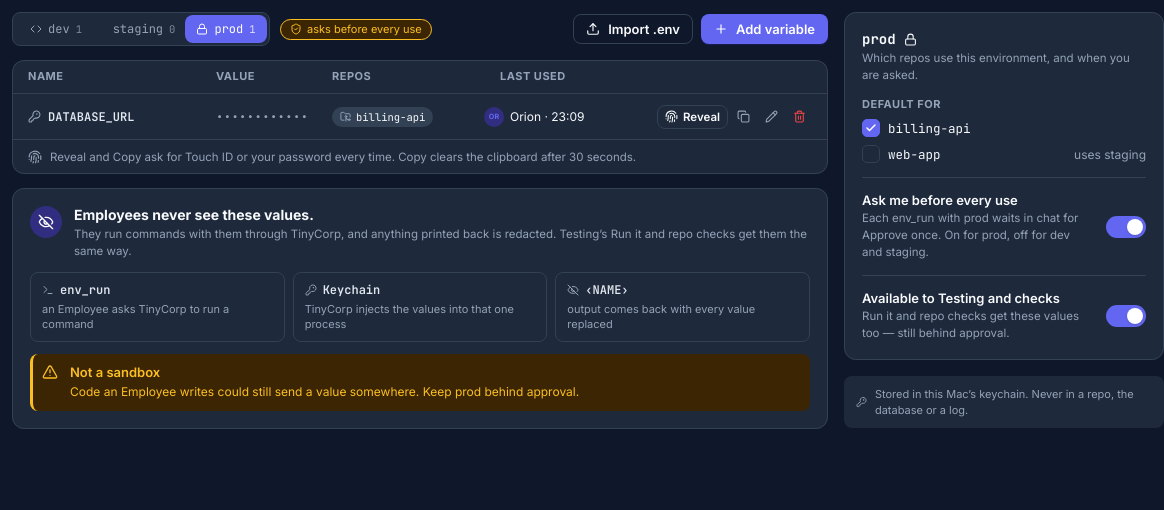
Test: The Environments tab › says nothing but the error when the boss cancels the prompt
Click the button "Reveal".
click(692, 116)  # box [657, 104, 728, 128]
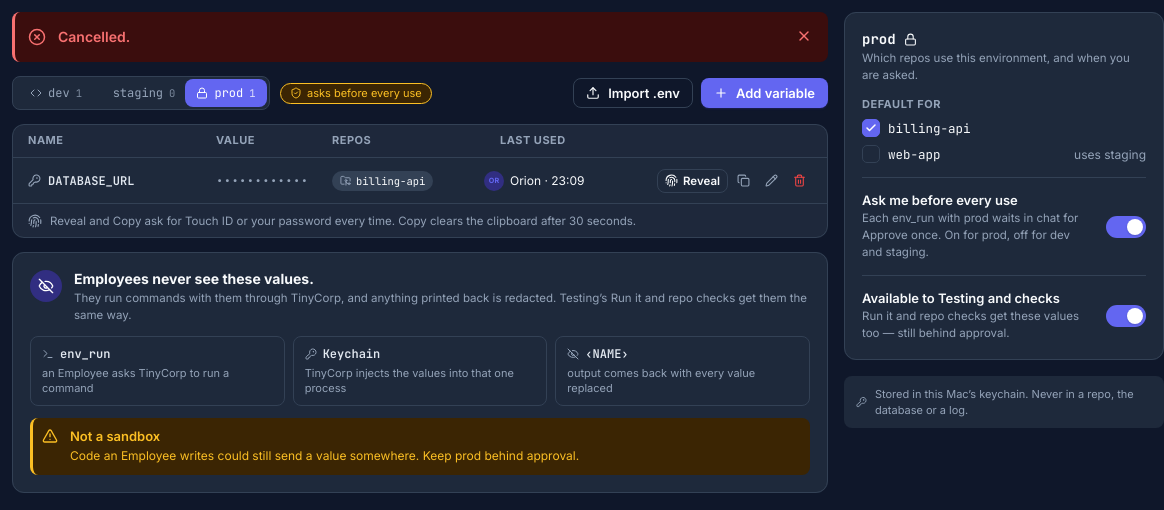
Result: the text "Cancelled." is shown at [58, 28, 130, 45]
